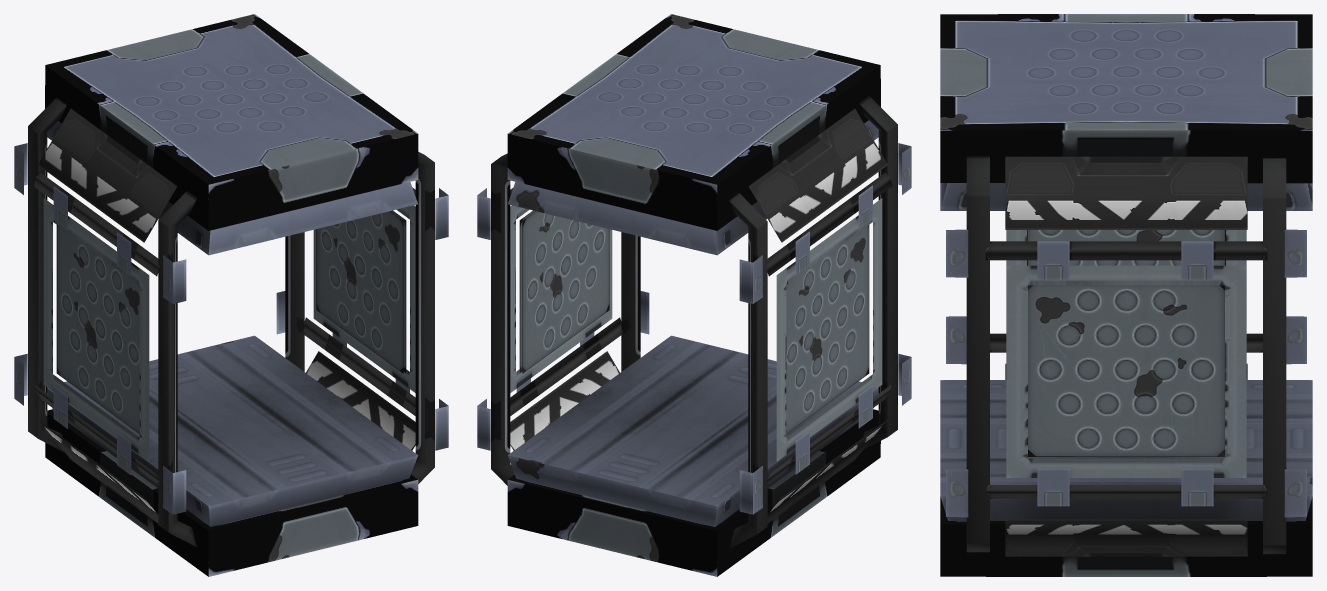
Rendered from obj_interactive_resourcecontainer_lod1.fbx.
3 views of the same model, side by side, from view 1: azimuth 30°, elevation 25°; view 2: azimuth 150°, elevation 25°; view 3: azimuth 270°, elevation 25° (orthographic). The views are drawn at different scales.
Parts seen in each view (by area): view 1: obj_interactive_resourcecontainer_geo_lod3; view 2: obj_interactive_resourcecontainer_geo_lod3; view 3: obj_interactive_resourcecontainer_geo_lod3.
Part boxes in pixels (box(x1,y1,x2,y2)): obj_interactive_resourcecontainer_geo_lod3: box(14, 14, 448, 576); obj_interactive_resourcecontainer_geo_lod3: box(477, 14, 911, 576); obj_interactive_resourcecontainer_geo_lod3: box(940, 14, 1312, 576).
Bounding box in the file's own units: 5.95 × 7.95 × 6.
Materials: 1 (1 with a texture image).
